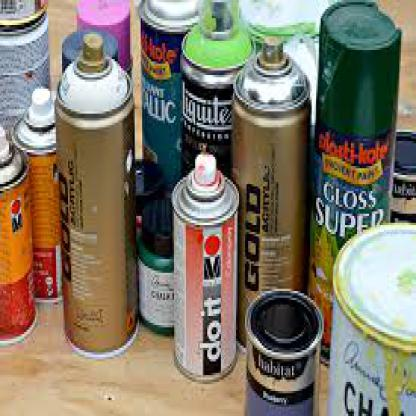METAL: (53, 32, 139, 357), (230, 39, 309, 352), (307, 116, 392, 368), (170, 150, 238, 384), (179, 0, 254, 191), (138, 0, 198, 198), (11, 84, 59, 300), (330, 291, 414, 414), (244, 286, 322, 414), (0, 125, 38, 348), (0, 0, 49, 142), (389, 128, 414, 221)
PLASTIC: (313, 0, 401, 132), (327, 218, 414, 343), (135, 198, 171, 338), (133, 157, 163, 227)
